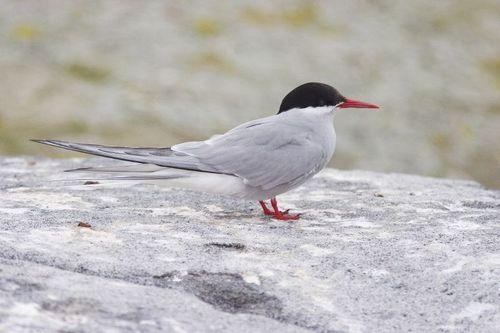bird: (38, 80, 381, 220)
